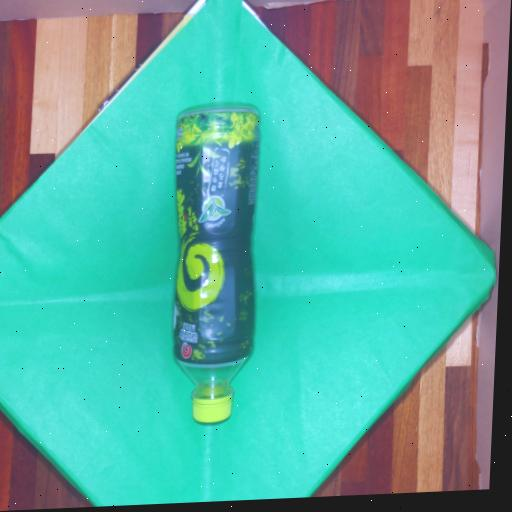bottle: (160, 99, 270, 431)
